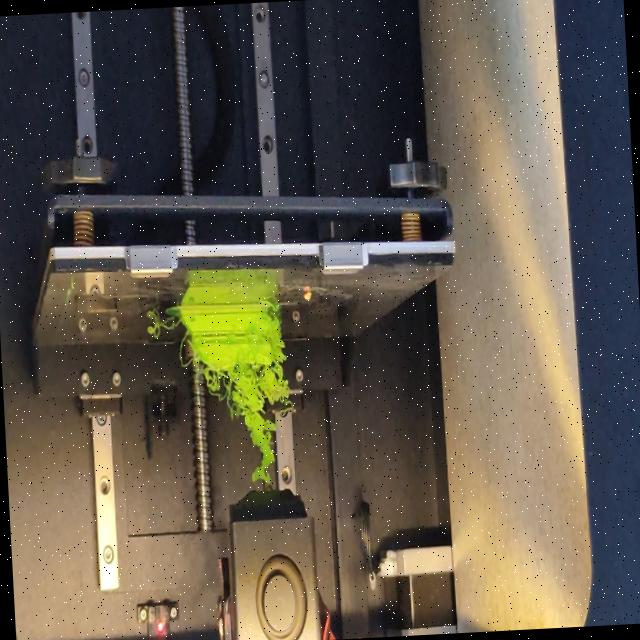spaghetti: (199, 359, 294, 487), (268, 298, 287, 360), (146, 319, 176, 338), (177, 331, 190, 370)
